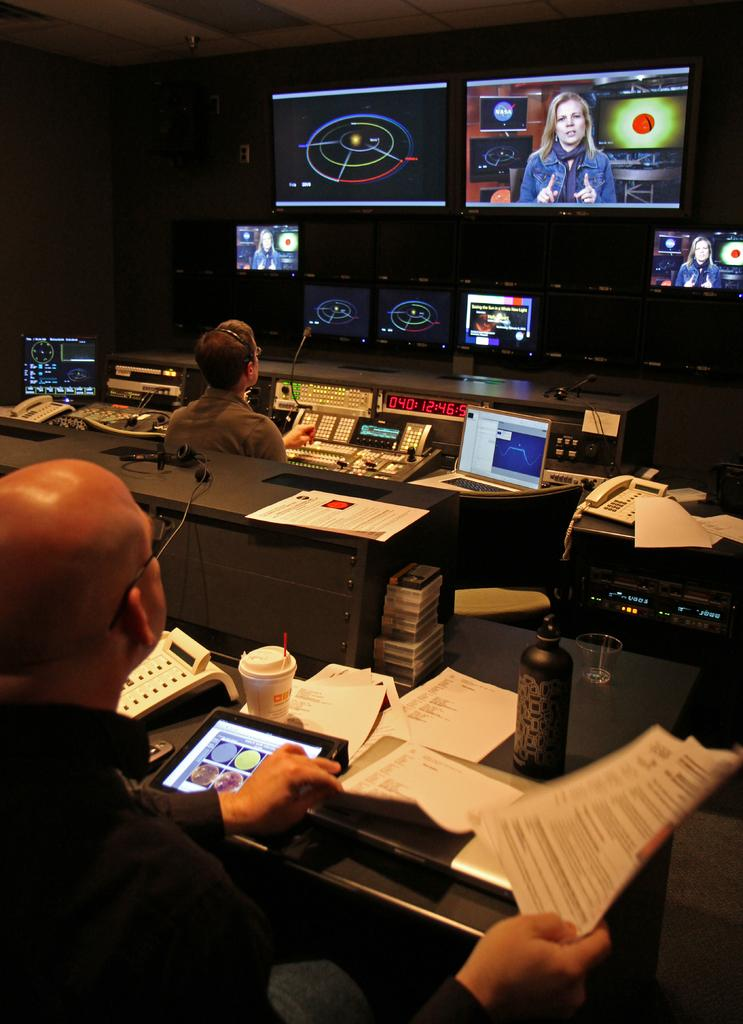Laptop: (407, 404, 552, 496)
